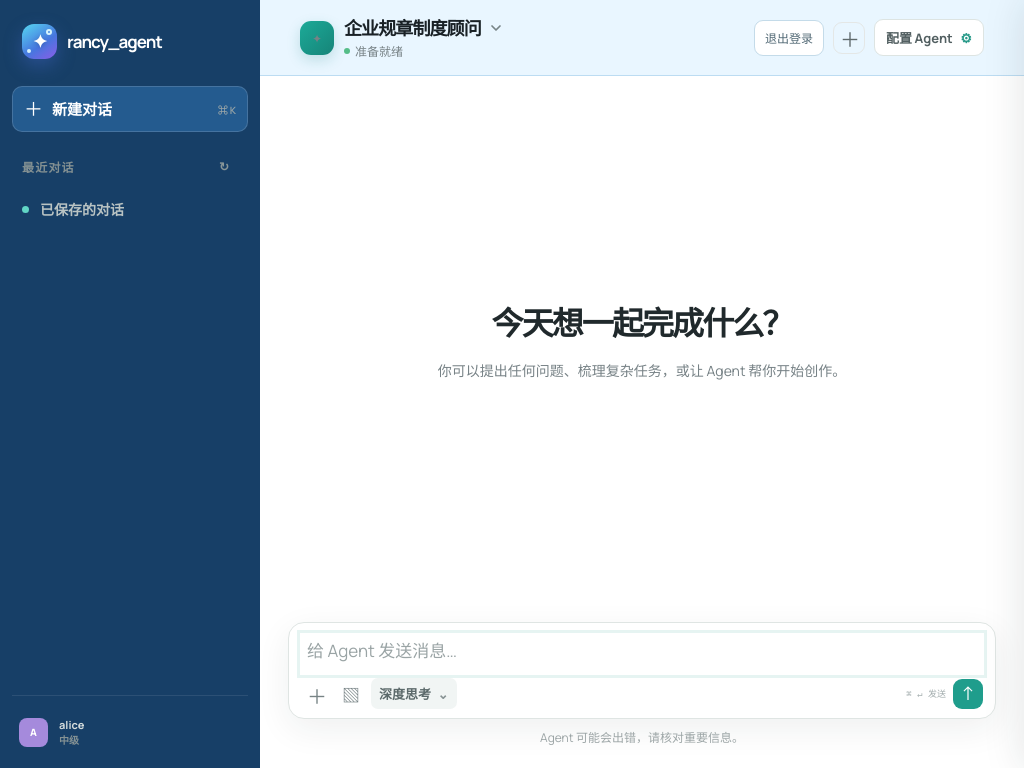
Test: renders history, disables thread configuration, and resets with the new-chat shortcut
The width and height of the screenshot is (1024, 768).
expect the button "退出登录" is shown: met, box [754, 20, 824, 56]
Click the button "已保存的对话". click: {"x": 128, "y": 209}
box: [12, 189, 245, 229]
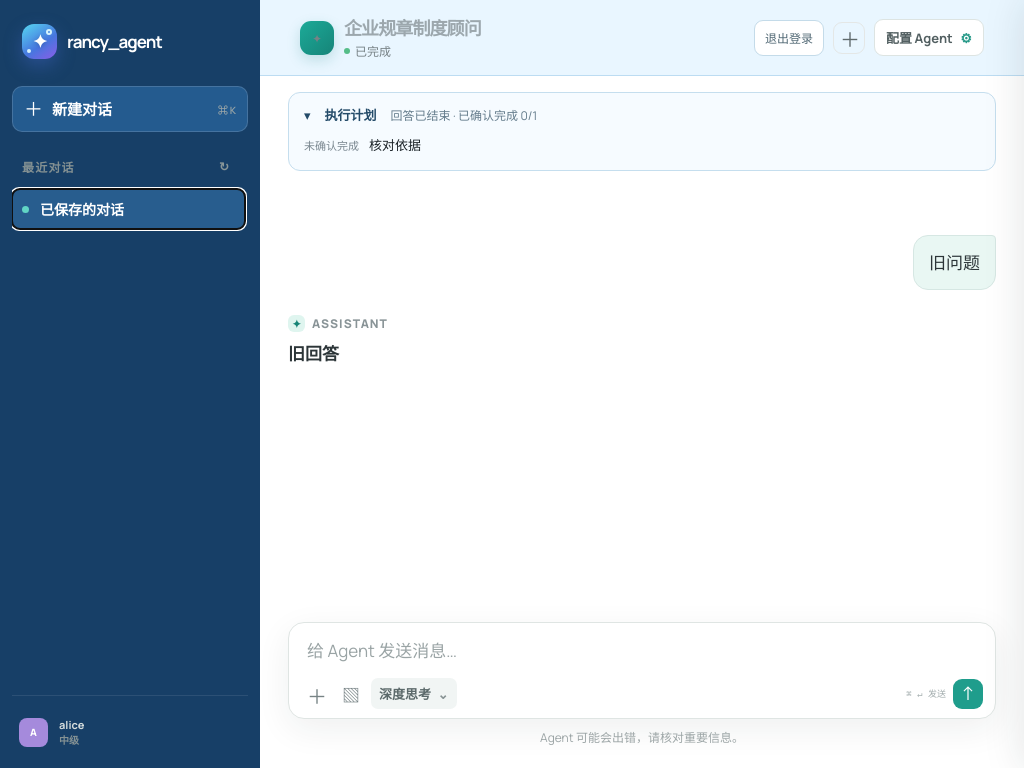
expect the text "旧回答" is shown: met, box [288, 342, 339, 365]
expect the text "未确认完成" is shown: met, box [304, 138, 359, 154]
expect the dropdown named "选择 Agent 角色" is disabled: met, box [344, 16, 504, 40]
Press k
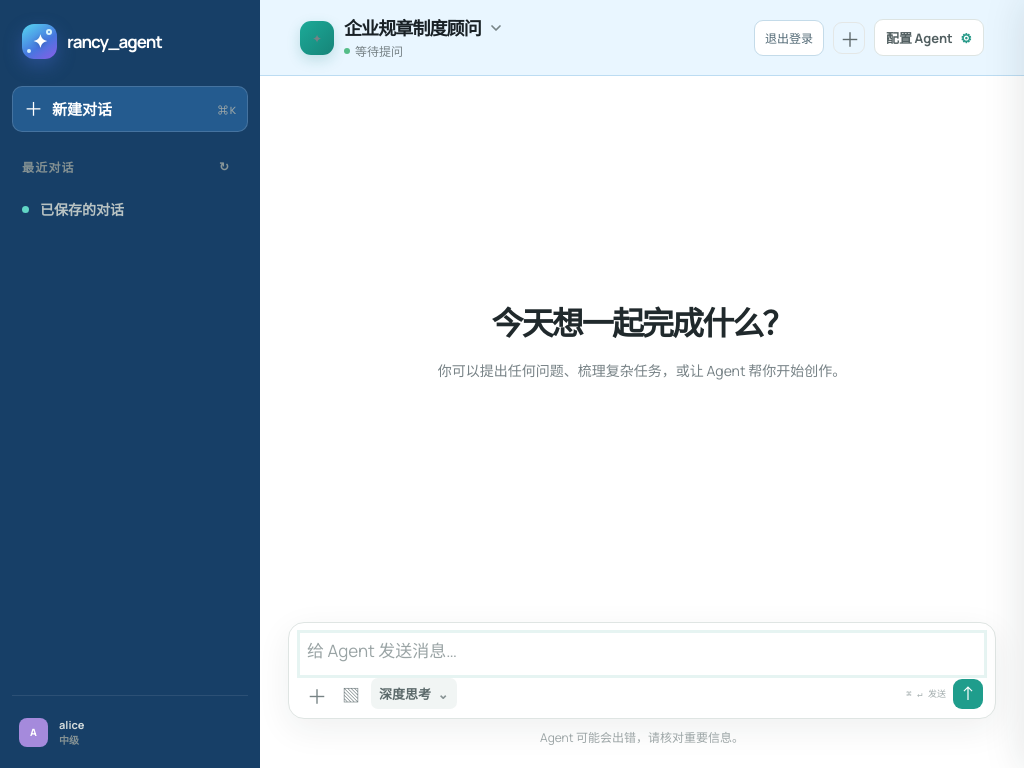
expect the text "旧回答" is gone: met
expect the text "核对依据" is gone: met
expect the dropdown named "选择 Agent 角色" is enabled: met, box [344, 16, 504, 40]
